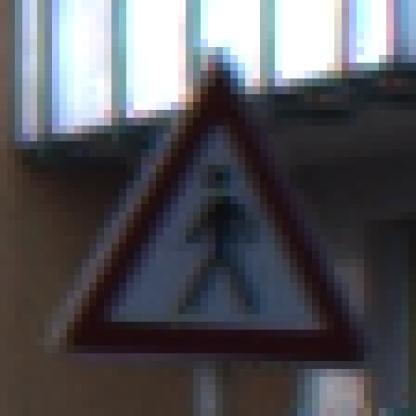crosswalk: (46, 48, 372, 382)
